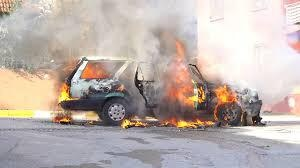fire: (160, 44, 240, 128)
